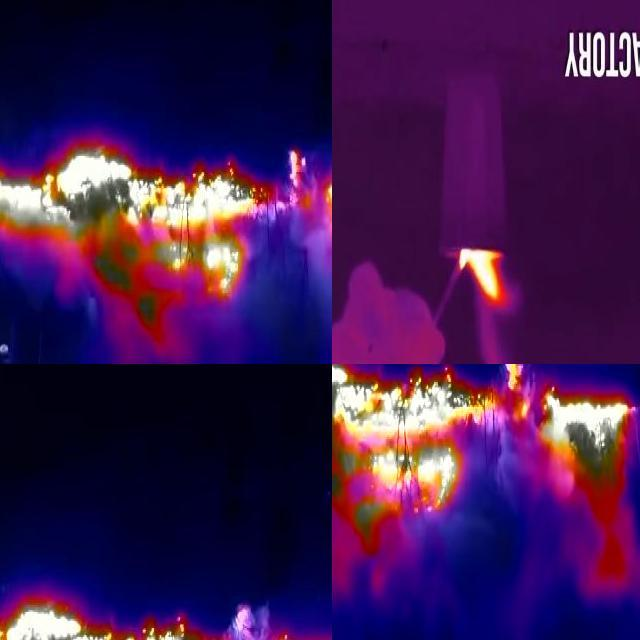fire: (1, 145, 317, 329), (333, 365, 497, 538), (537, 394, 637, 536), (461, 245, 519, 319), (501, 365, 531, 434)
